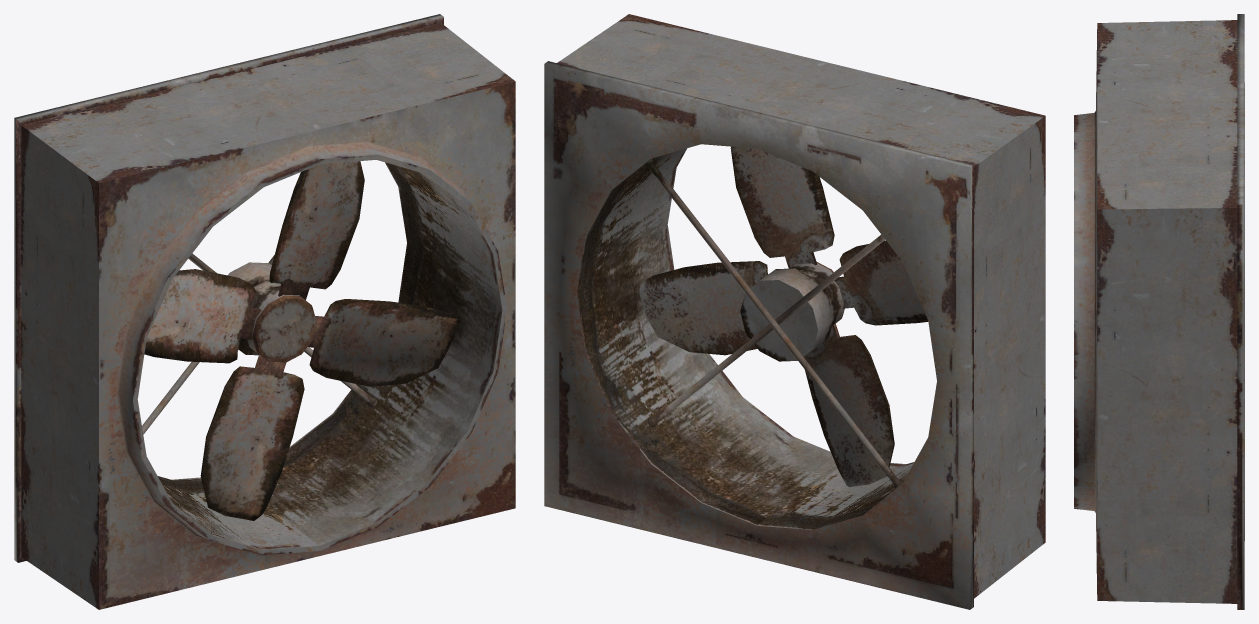
The model's file is sm22_024_ventilator01a.fbx.
The picture shows the model from 3 angles, left to right: view 1: azimuth 30°, elevation 25°; view 2: azimuth 150°, elevation 25°; view 3: azimuth 270°, elevation 25°; orthographic projection. The views are drawn at different scales.
Visible parts, largest first — view 1: LOD_1_Group_0_Sub_1__sm22_024_Ventilator01A_A_Mat, LOD_1_Group_1_Sub_1__sm22_024_Ventilator01A_A_Mat; view 2: LOD_1_Group_0_Sub_1__sm22_024_Ventilator01A_A_Mat, LOD_1_Group_1_Sub_1__sm22_024_Ventilator01A_A_Mat; view 3: LOD_1_Group_0_Sub_1__sm22_024_Ventilator01A_A_Mat.
Part boxes in pixels (x1=…): LOD_1_Group_0_Sub_1__sm22_024_Ventilator01A_A_Mat: x1=14, y1=14, x2=515, y2=609; LOD_1_Group_1_Sub_1__sm22_024_Ventilator01A_A_Mat: x1=144, y1=161, x2=460, y2=520; LOD_1_Group_0_Sub_1__sm22_024_Ventilator01A_A_Mat: x1=544, y1=14, x2=1045, y2=609; LOD_1_Group_1_Sub_1__sm22_024_Ventilator01A_A_Mat: x1=639, y1=146, x2=928, y2=486; LOD_1_Group_0_Sub_1__sm22_024_Ventilator01A_A_Mat: x1=1074, y1=14, x2=1244, y2=609.
Bounding box in the file's own units: 1 × 0.9936 × 0.3797.
